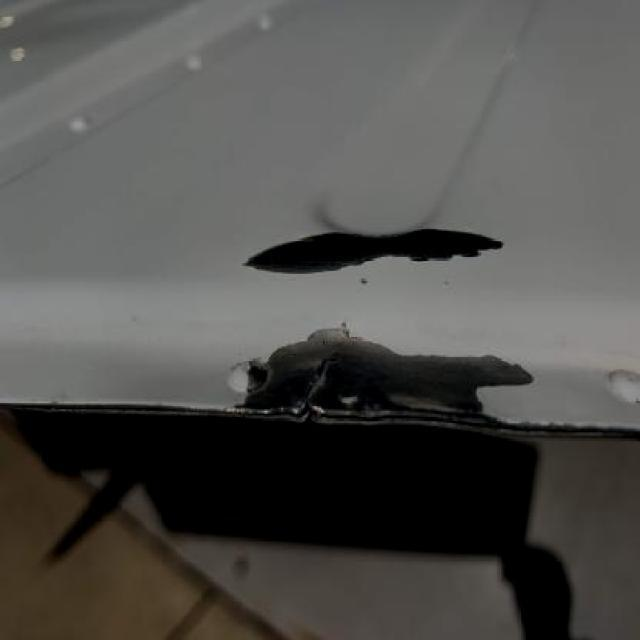crack: (293, 358, 346, 412)
